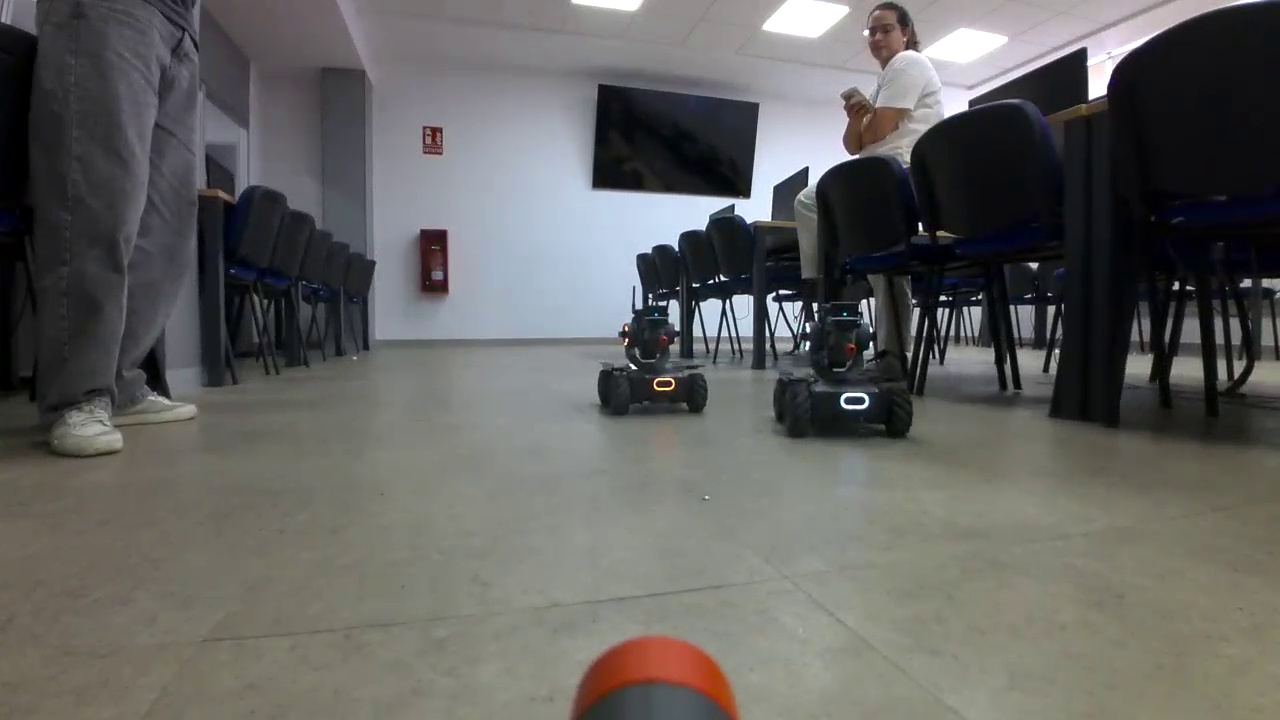robot: (771, 299, 915, 438), (596, 304, 709, 417)
